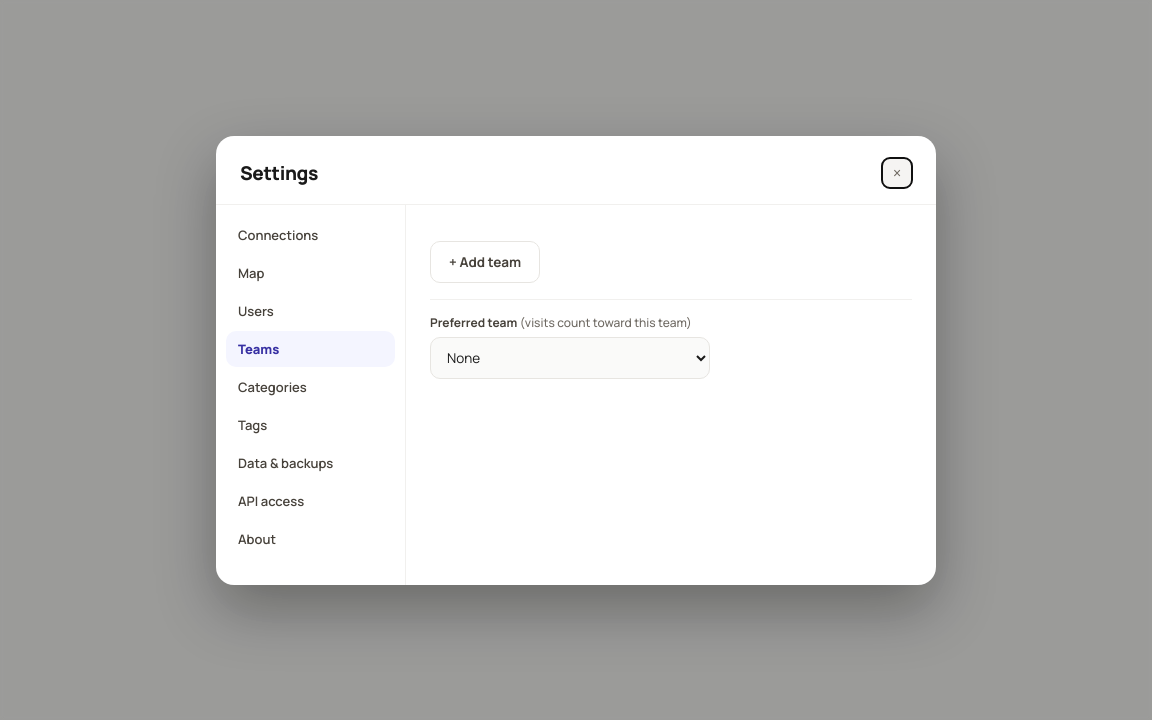
SettingsModal › renders the Data & backups section and a close button
The width and height of the screenshot is (1152, 720).
Click the button "Data & backups".
click(310, 462)  # box [226,444,395,480]
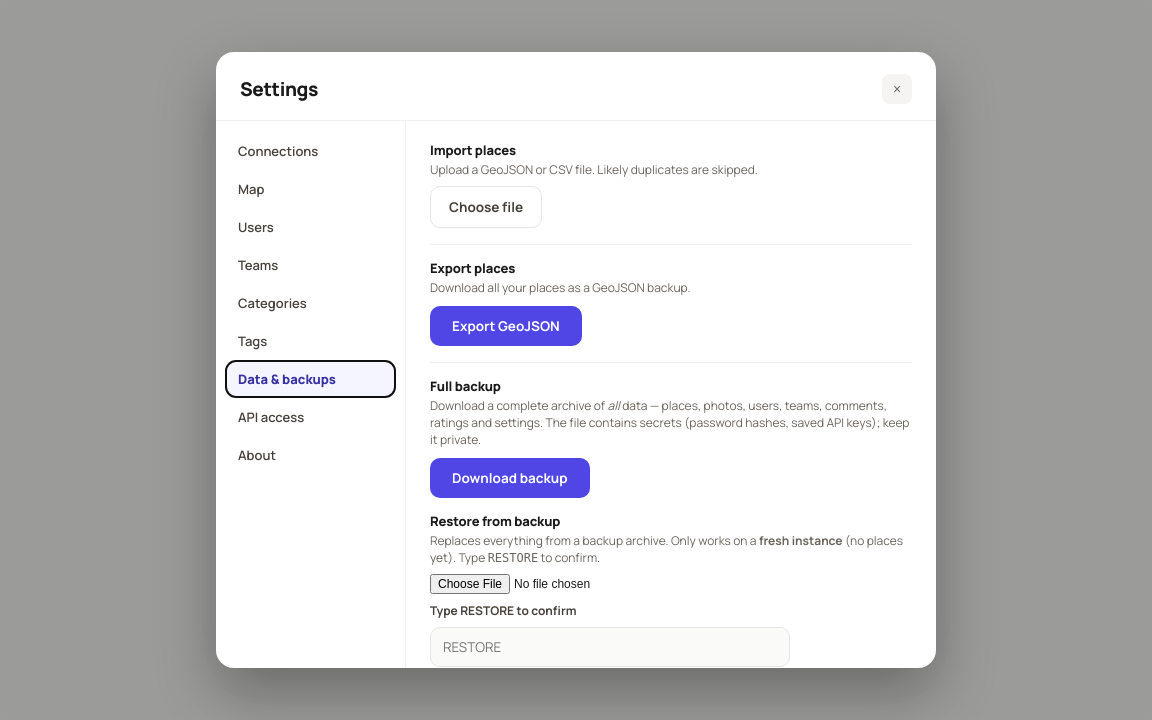
Expected: the button named "close" is shown, [882,74,912,104]
Expected: the text "Import places" is shown, [430,141,516,159]
